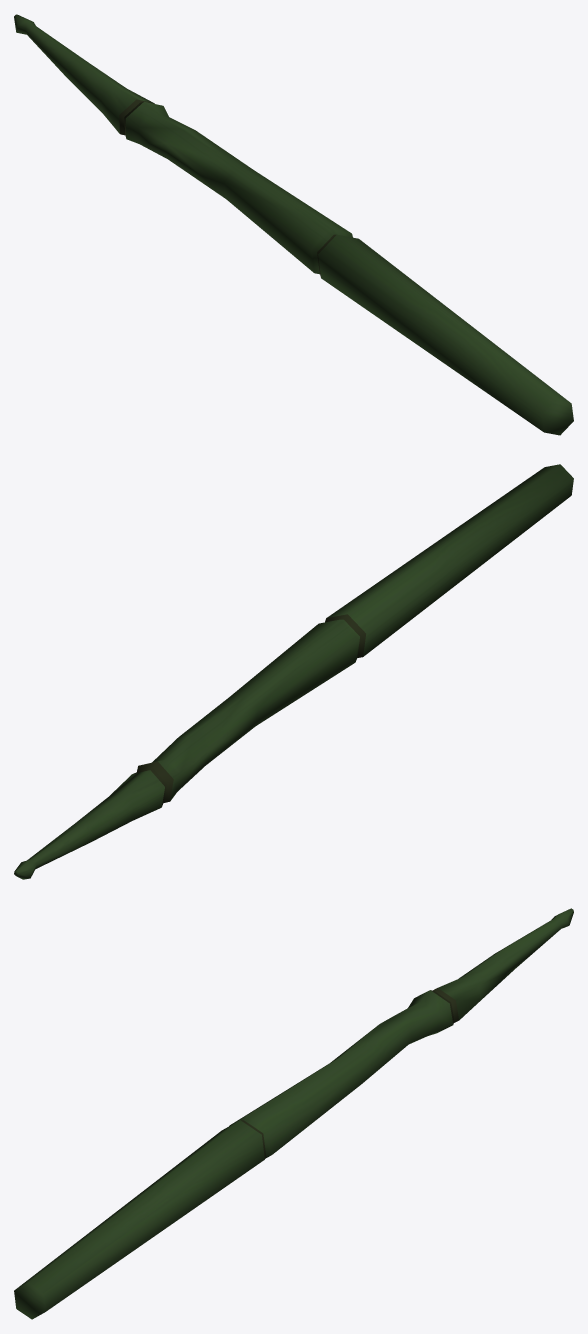
Rendered from Phase 4 Bamboo 1.fbx.
3 views of the same model, one above another, from view 1: azimuth 30°, elevation 25°; view 2: azimuth 150°, elevation 25°; view 3: azimuth 330°, elevation 25° (orthographic). The views are drawn at different scales.
Parts seen in each view (by area): view 1: Phase 4 Bamboo 1; view 2: Phase 4 Bamboo 1; view 3: Phase 4 Bamboo 1.
Boxes of the visible parts, box(x1,y1,x2,y2) form: Phase 4 Bamboo 1: box(14, 14, 573, 435); Phase 4 Bamboo 1: box(14, 464, 573, 879); Phase 4 Bamboo 1: box(14, 908, 573, 1319).
Size of the model in its own units: 32.32 by 37.31 by 689.
